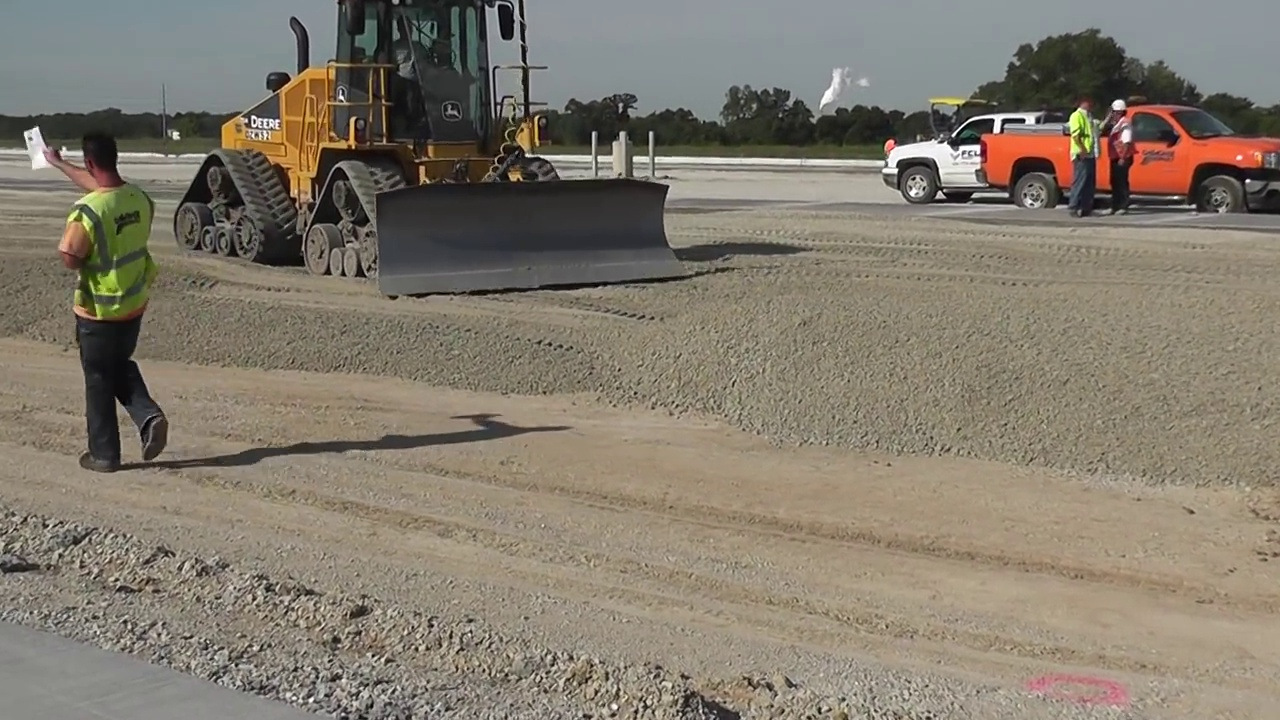bulldozer: (173, 4, 699, 299)
car: (981, 108, 1280, 217), (878, 112, 1074, 205)
person: (22, 123, 171, 469), (1065, 90, 1095, 216), (1107, 94, 1134, 217)
